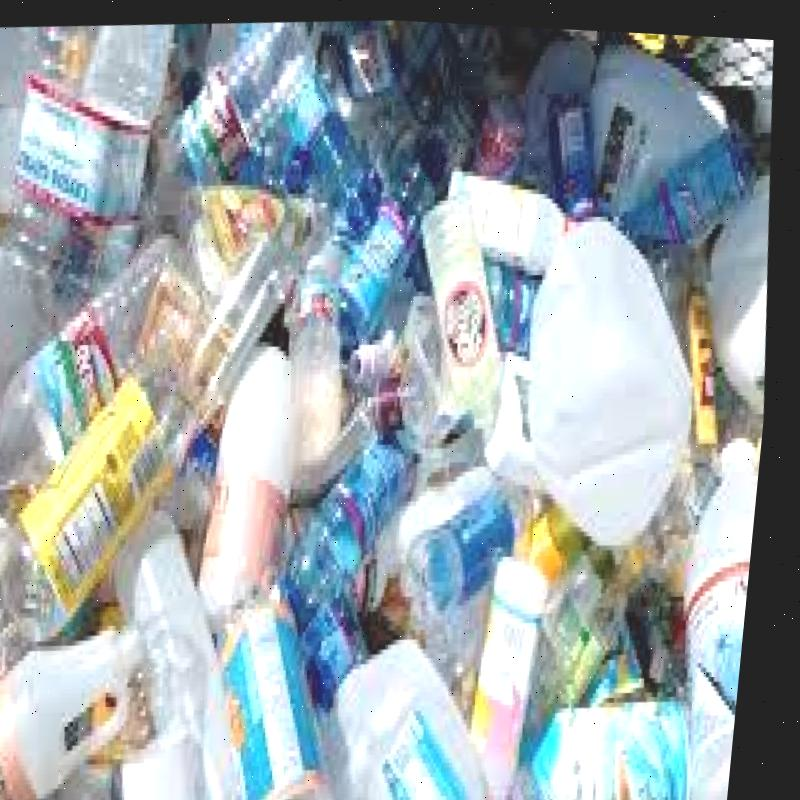botella: (0, 335, 229, 660), (0, 16, 190, 338), (0, 224, 207, 495), (137, 18, 325, 243), (280, 398, 440, 619), (407, 173, 540, 435), (168, 212, 315, 420), (266, 39, 398, 237), (406, 448, 552, 624), (621, 110, 779, 269), (329, 147, 449, 339), (279, 218, 367, 458), (286, 558, 389, 693)
